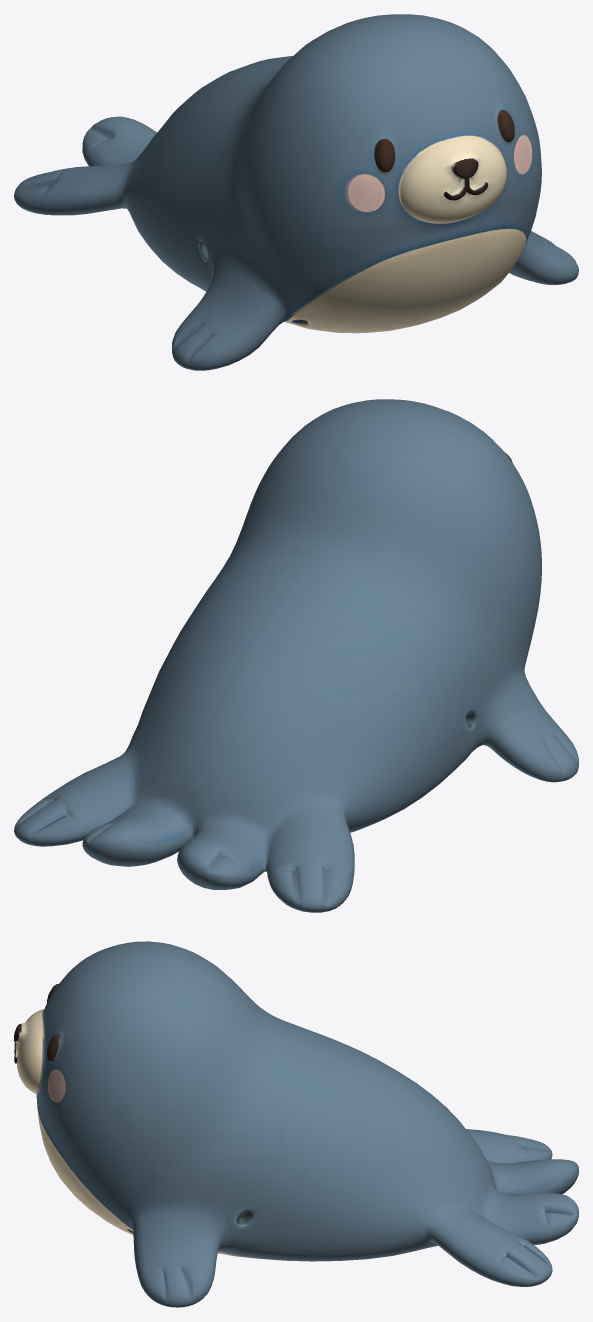
The model's file is tripo_convert_666c80dd-6bf6-4e70-b78a-9127aabb5dd8.fbx.
The picture shows the model from 3 angles, top to bottom: view 1: azimuth 30°, elevation 25°; view 2: azimuth 150°, elevation 25°; view 3: azimuth 270°, elevation 25°; orthographic projection. The views are drawn at different scales.
Parts seen in each view (by area): view 1: tripo_node_666c80dd; view 2: tripo_node_666c80dd; view 3: tripo_node_666c80dd.
Boxes of the visible parts, x1=… form: tripo_node_666c80dd: x1=14, y1=14, x2=578, y2=370; tripo_node_666c80dd: x1=14, y1=399, x2=578, y2=912; tripo_node_666c80dd: x1=14, y1=941, x2=578, y2=1307.
Size of the model in its own units: 0.7153 by 0.5327 by 0.9995.
Materials: 1 (1 with a texture image).
